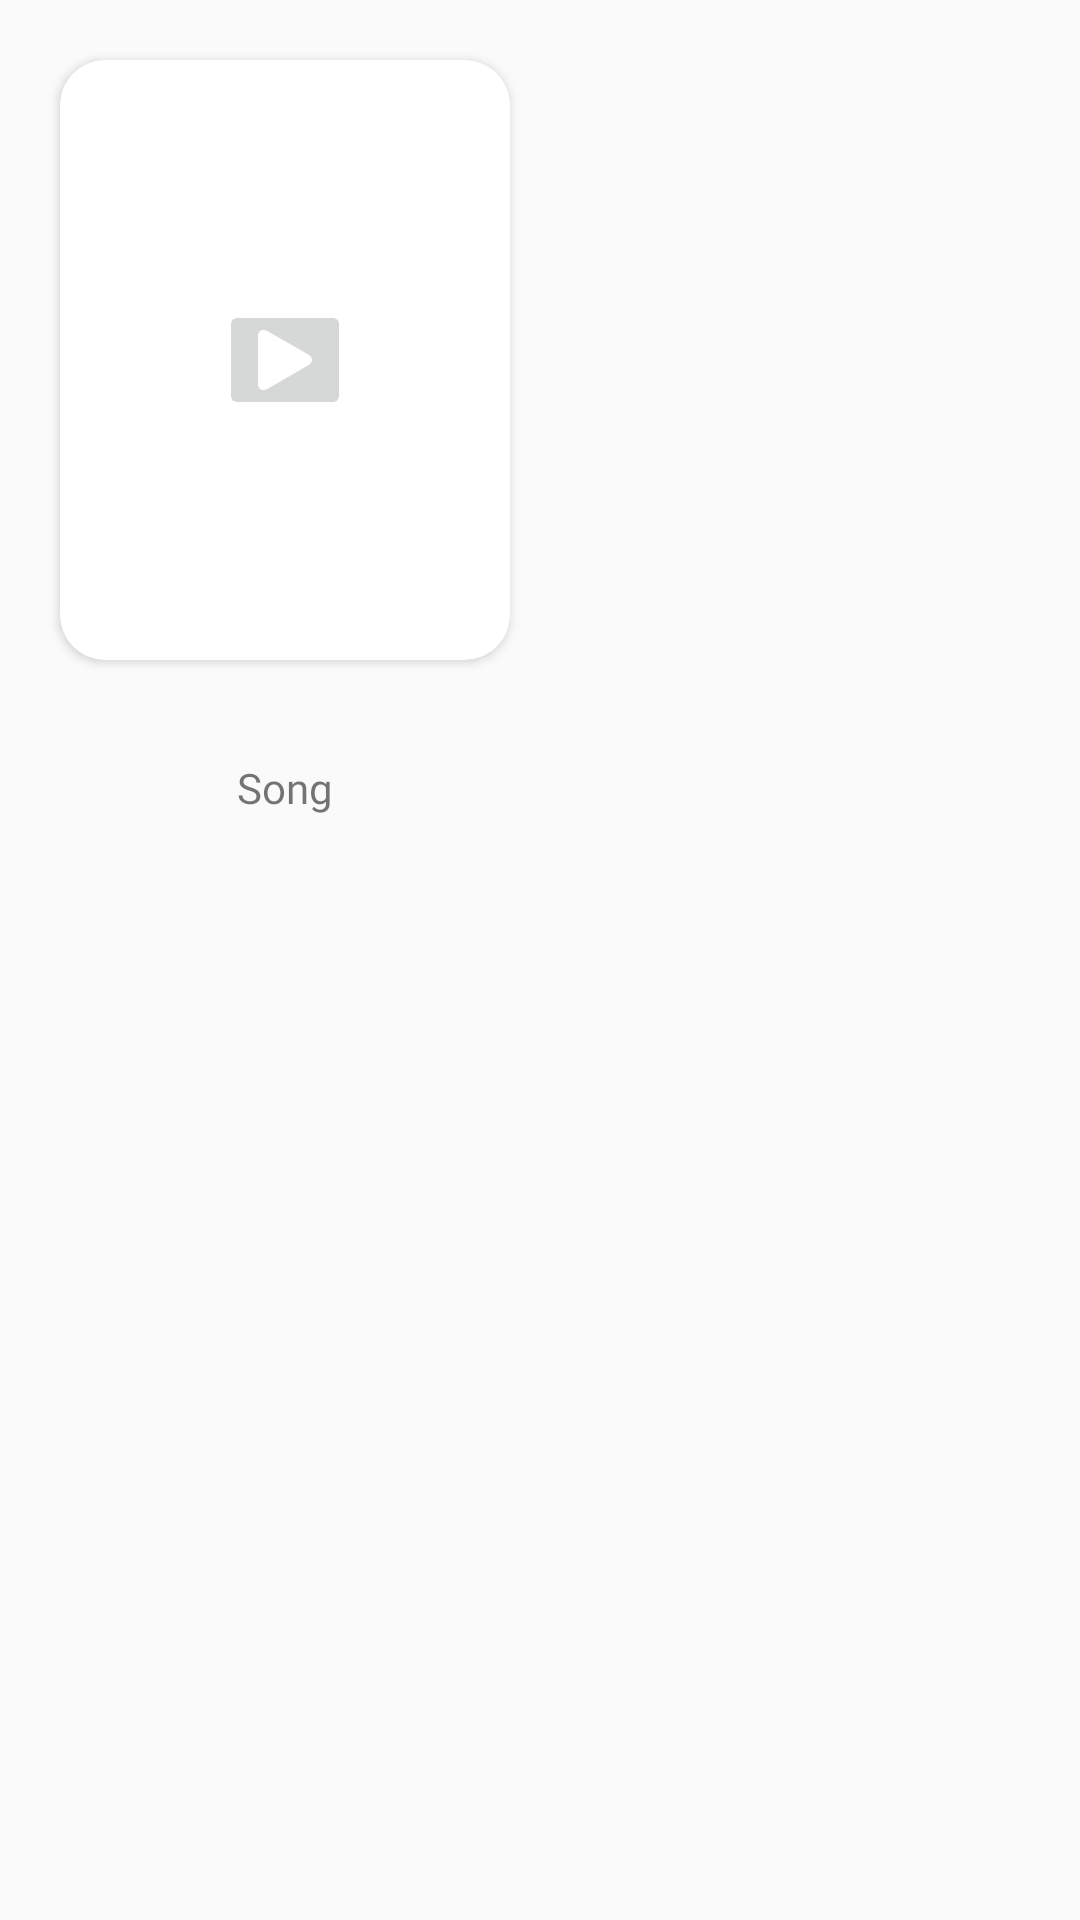

Screen size 1080x1920. Icon name, then its center in pixels as (x,y):
playbutton: (285,360)
